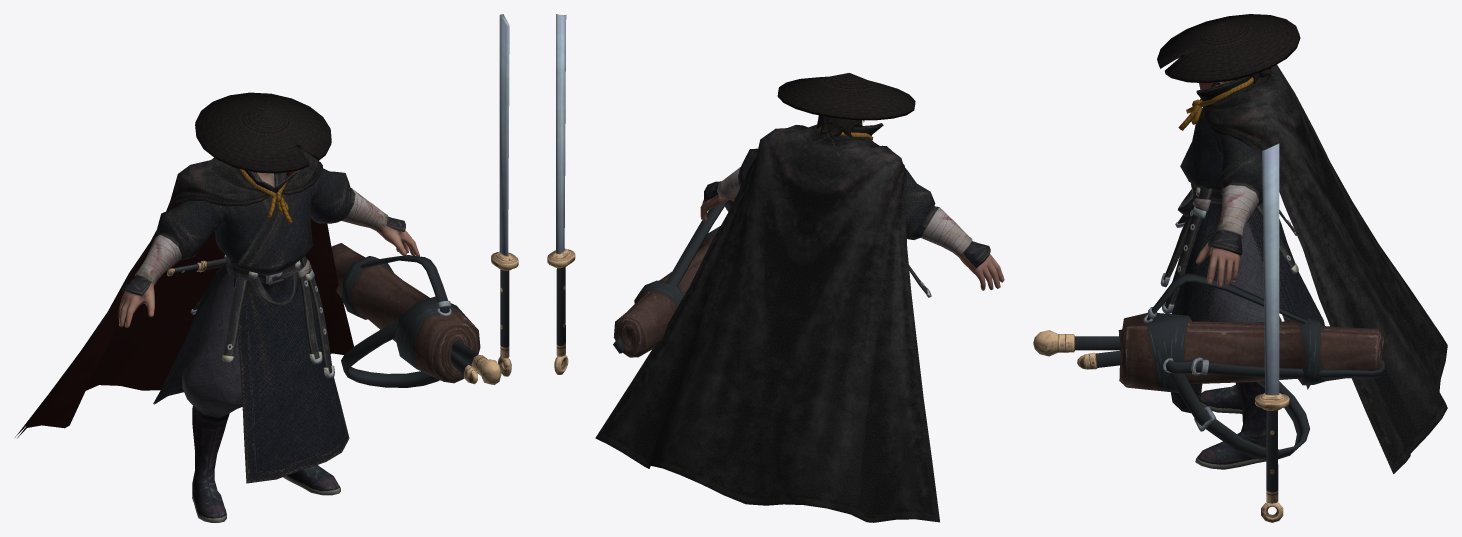
Rendered from npc_ip_daoma.FBX.
3 renders of one model, left to right at view 1: azimuth 30°, elevation 25°; view 2: azimuth 150°, elevation 25°; view 3: azimuth 270°, elevation 25°, orthographic. The views are drawn at different scales.
Parts seen in each view (by area): view 1: 7_npc_ip_daoma_001_2, 7_npc_ip_daoma_001_1; view 2: 7_npc_ip_daoma_001_2, 7_npc_ip_daoma_001_1; view 3: 7_npc_ip_daoma_001_2, 7_npc_ip_daoma_001_1.
Part boxes in pixels (bbox=[...]): 7_npc_ip_daoma_001_2: bbox=[15, 14, 518, 438]; 7_npc_ip_daoma_001_1: bbox=[118, 168, 419, 522]; 7_npc_ip_daoma_001_2: bbox=[547, 14, 939, 522]; 7_npc_ip_daoma_001_1: bbox=[700, 115, 1004, 297]; 7_npc_ip_daoma_001_2: bbox=[1033, 14, 1447, 522]; 7_npc_ip_daoma_001_1: bbox=[1160, 68, 1324, 469].
Size of the model in its own units: 267 by 233 by 205.
Materials: 2 (2 with a texture image).
